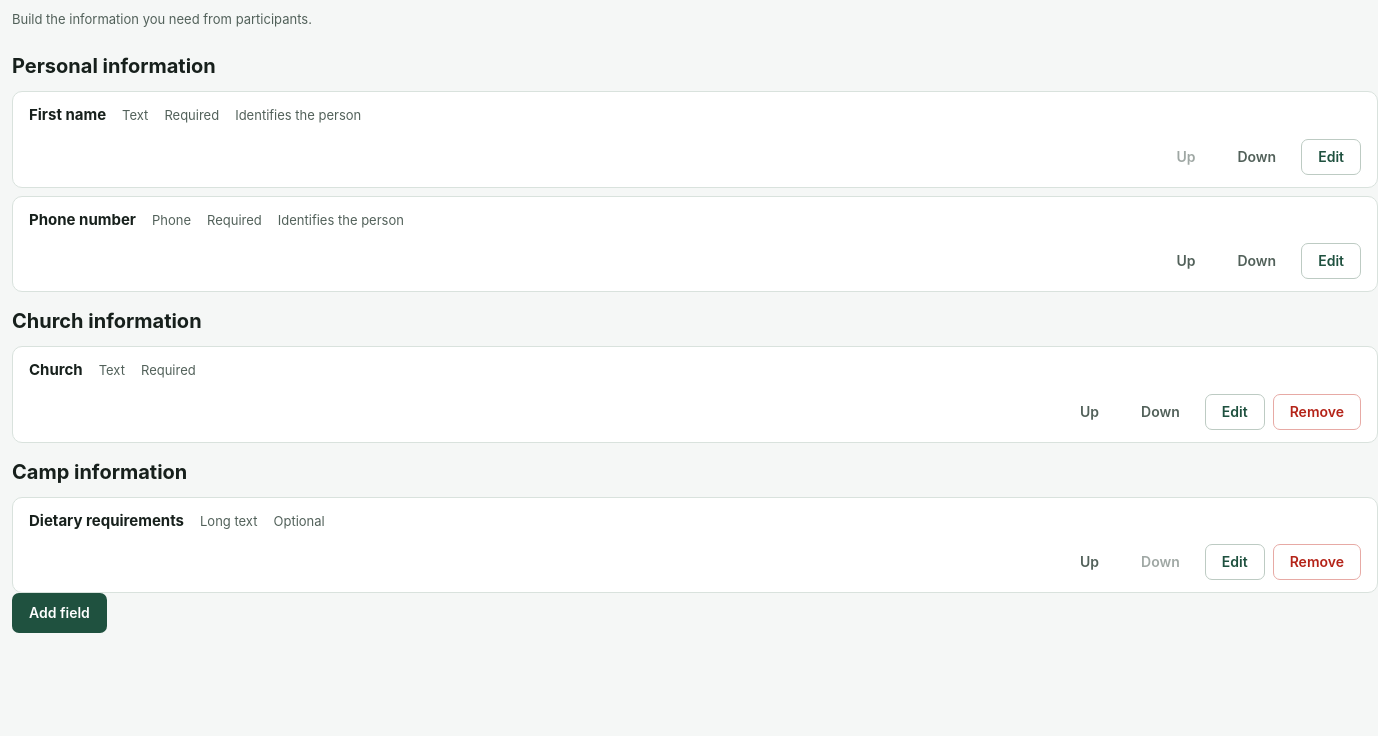
it: registration form builder › shows the server's reason when it refuses a change
The image size is (1378, 736).
Click the button "Add field" at [59, 613], box x1=12 y1=593 x2=107 y2=633
(page scrolled)
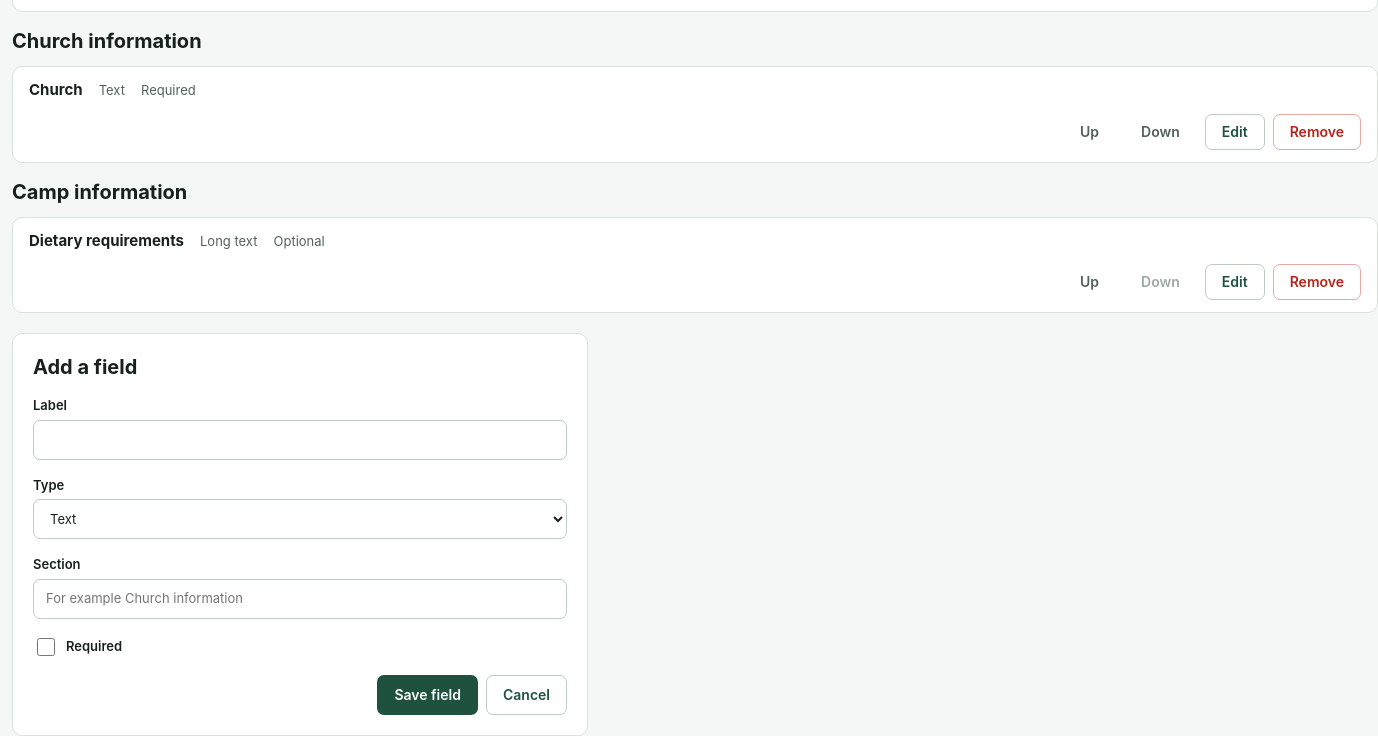
Type "Extra" into the field labelled "Label" at [300, 440], box x1=33 y1=420 x2=567 y2=460
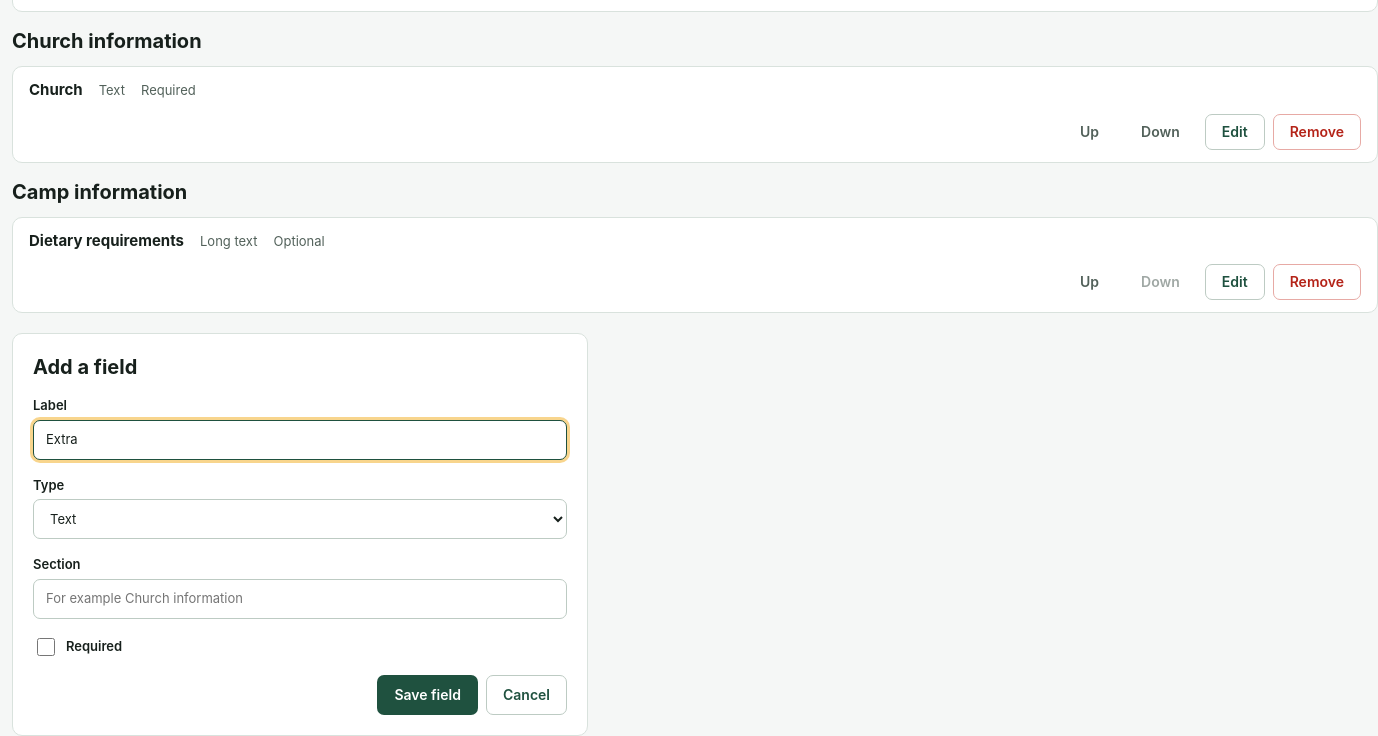
Click the button "Save field" at [428, 695], box x1=377 y1=675 x2=478 y2=715
(page scrolled)
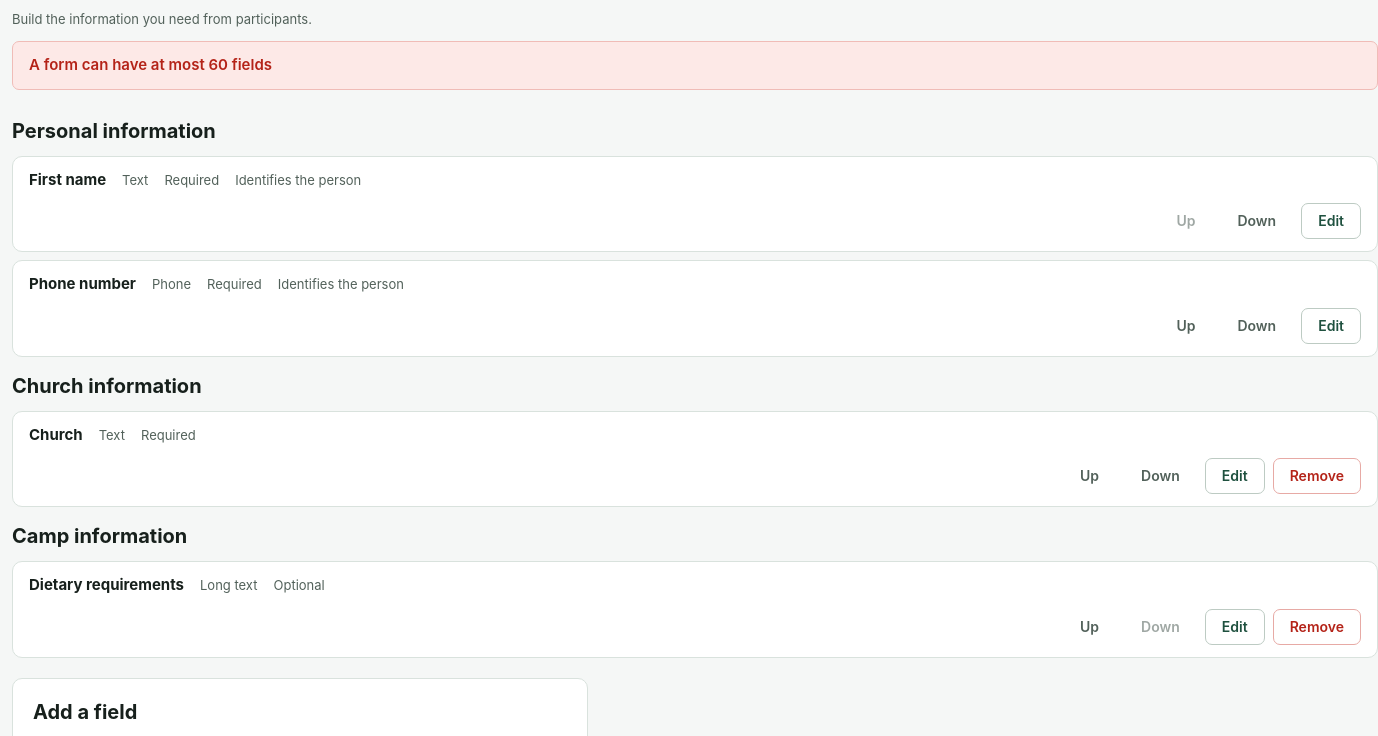
Check: the message reads "A form can have at most 60 fields", box x1=29 y1=55 x2=272 y2=74
